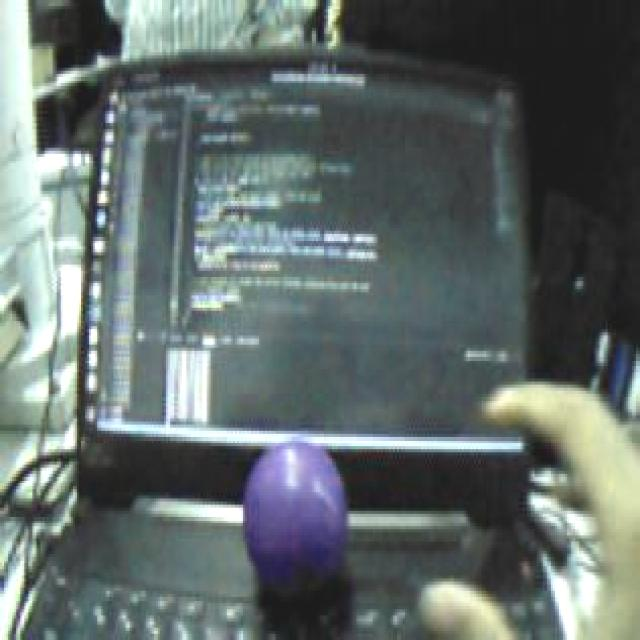BallPurple: (242, 439, 348, 597)
